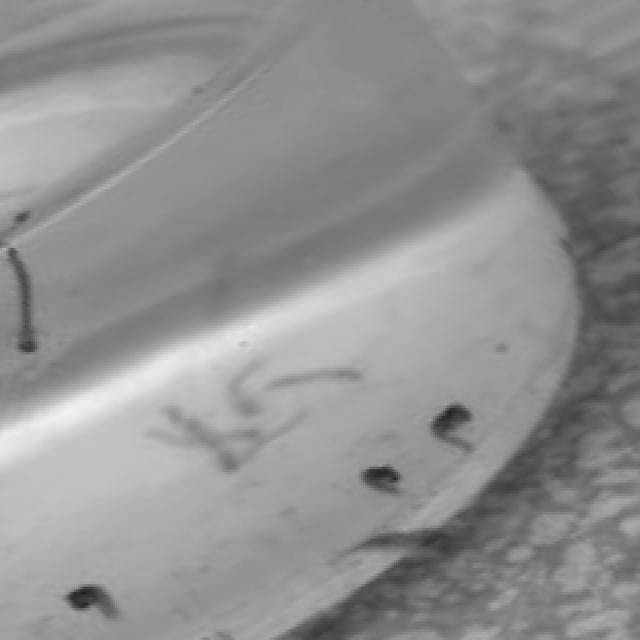larvas: (168, 396, 239, 472), (248, 406, 307, 464), (152, 418, 258, 446), (359, 529, 446, 563), (9, 252, 36, 354), (280, 368, 368, 388), (234, 346, 258, 418), (436, 400, 468, 450), (69, 583, 114, 615), (0, 202, 36, 239), (366, 468, 398, 496)
